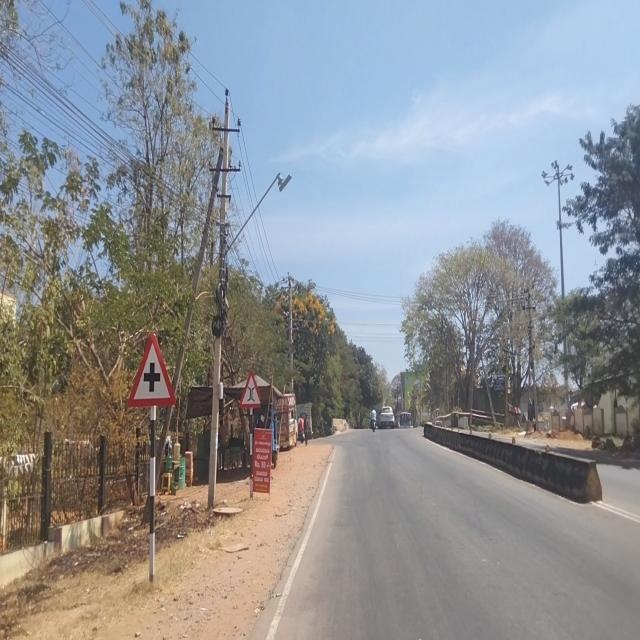bien_nguy_hiem: (128, 332, 174, 406), (237, 368, 262, 410)
